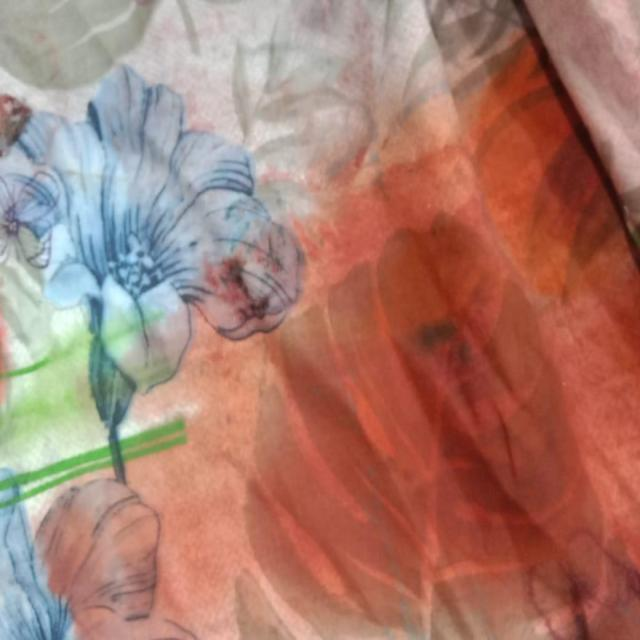baekra: (73, 62, 630, 630)
